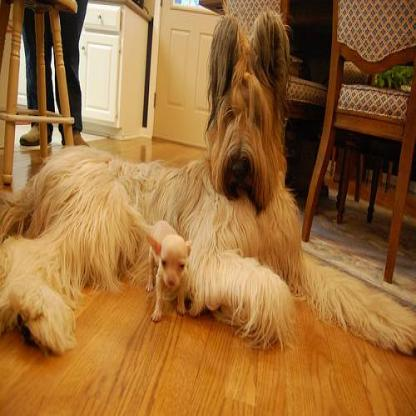briard: (0, 10, 414, 358)
